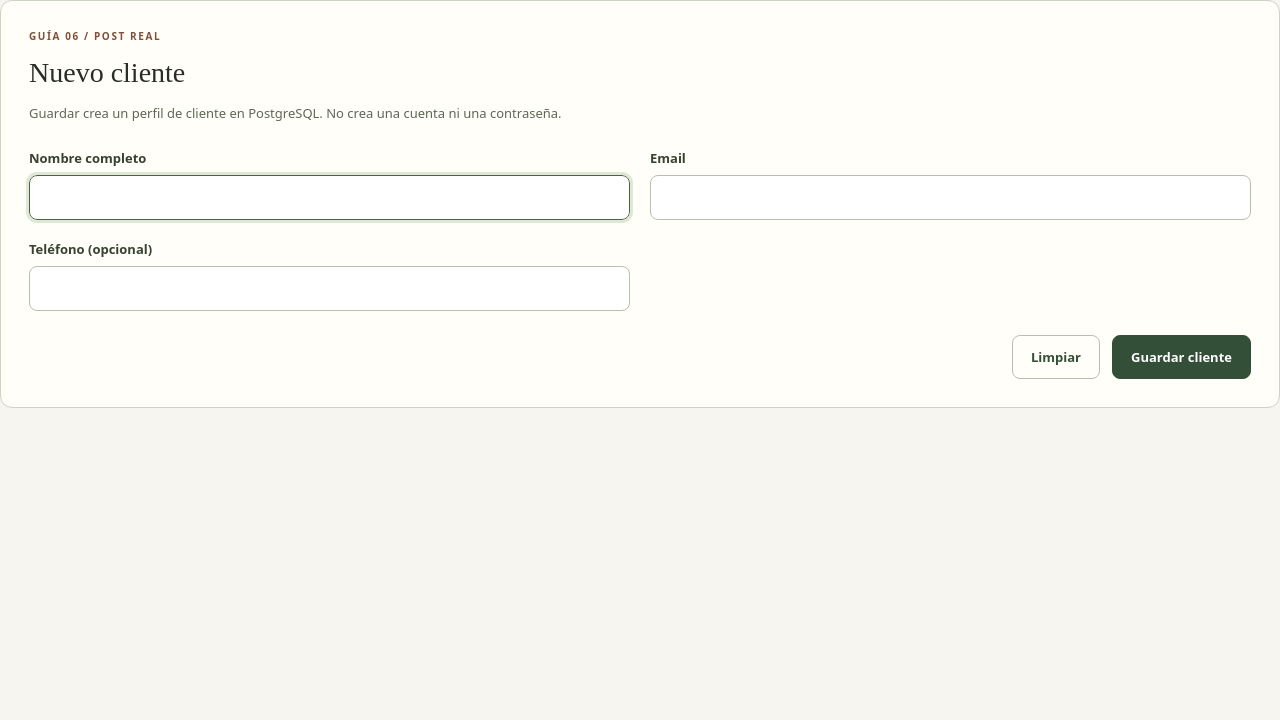
formulario inválido muestra errores sin crear un cliente
The image size is (1280, 720).
Click the button "Guardar cliente" at (1182, 357), box [1112,335,1251,379]
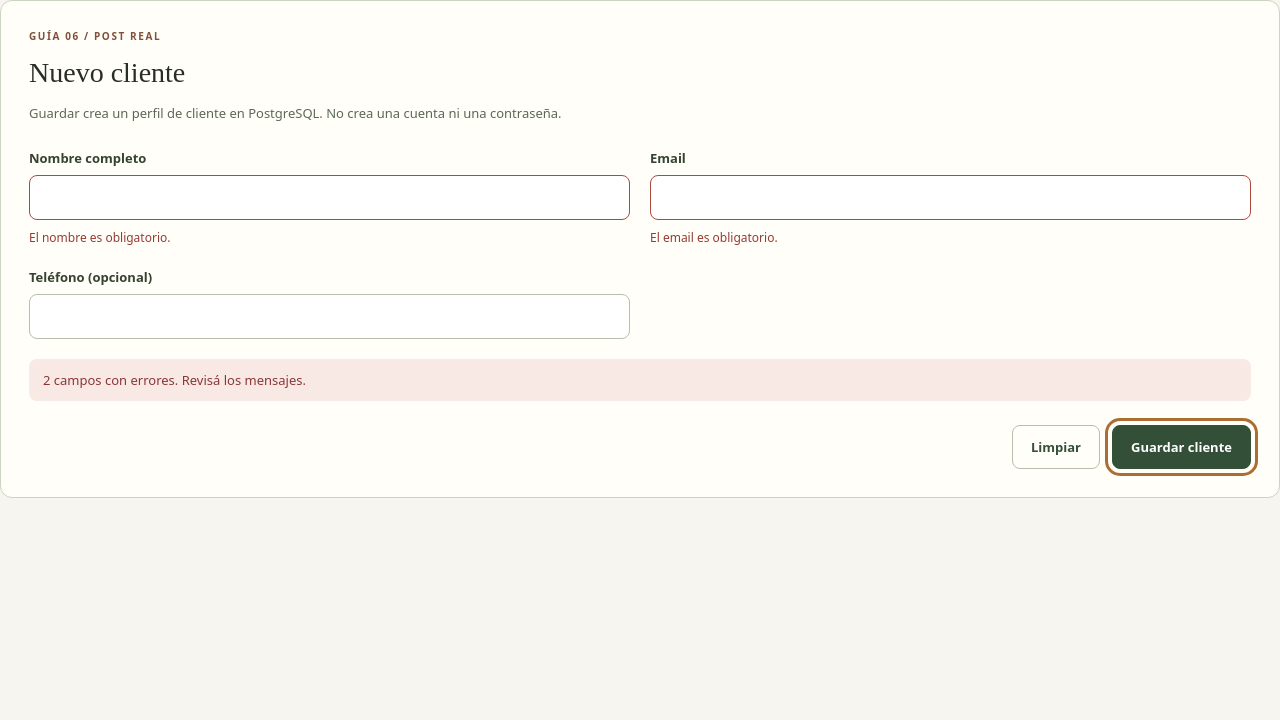
Expected: the text "El nombre es obligatorio." is shown, [29,229,170,246]
Expected: the text "El email es obligatorio." is shown, [650,229,778,246]
